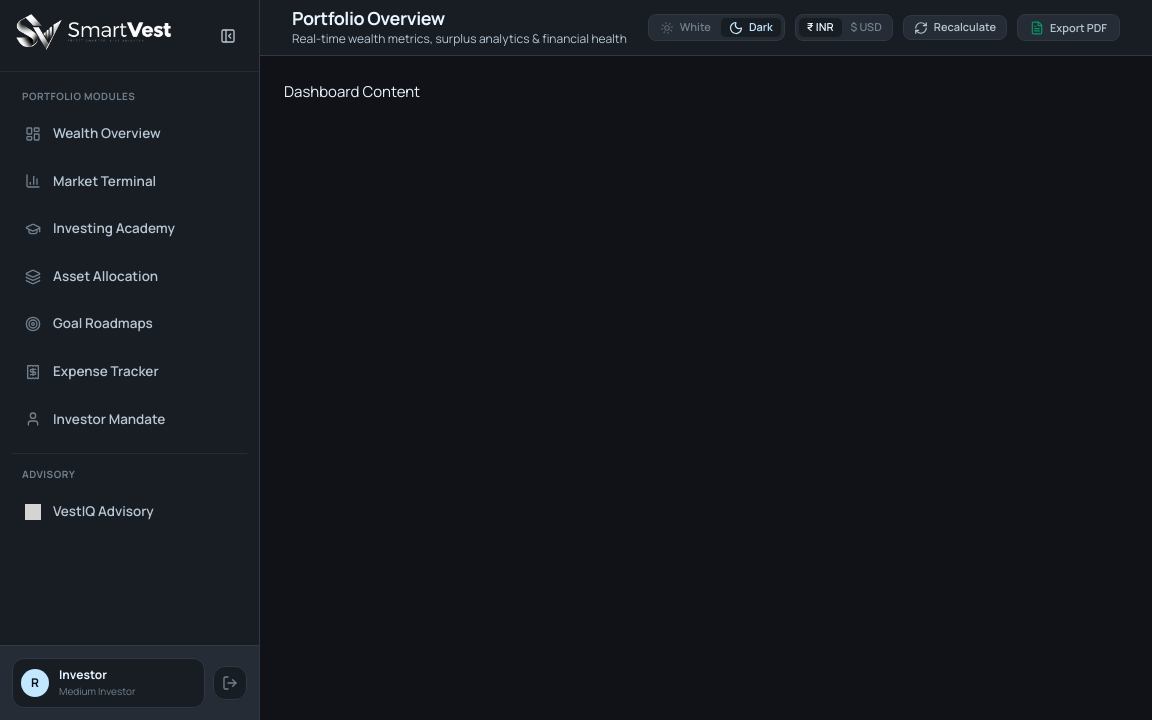
it: Collapsible Desktop Sidebar & Fluid Layout › collapses the sidebar on toggle click and updates localStorage and width
This screenshot has width=1152, height=720.
Click the button named "Collapse sidebar": click(228, 36) left=213, top=20, right=243, bottom=50
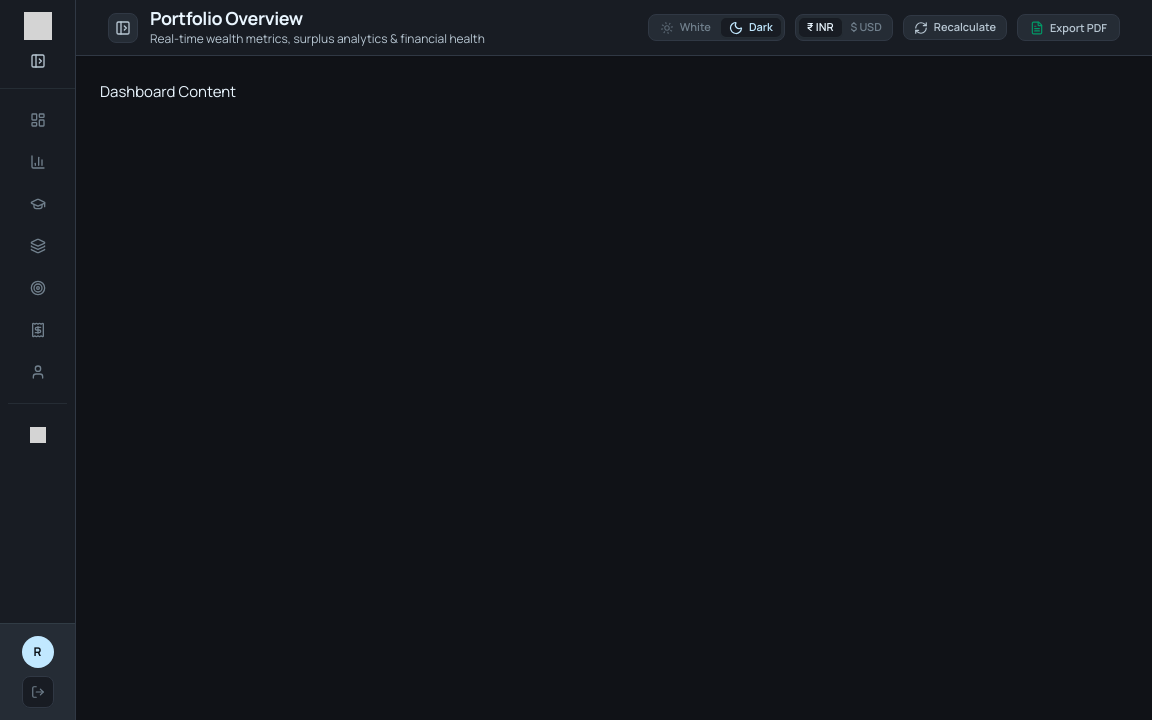
Now the 2nd button named "Collapse sidebar" is collapsed, box left=22, top=46, right=52, bottom=76
